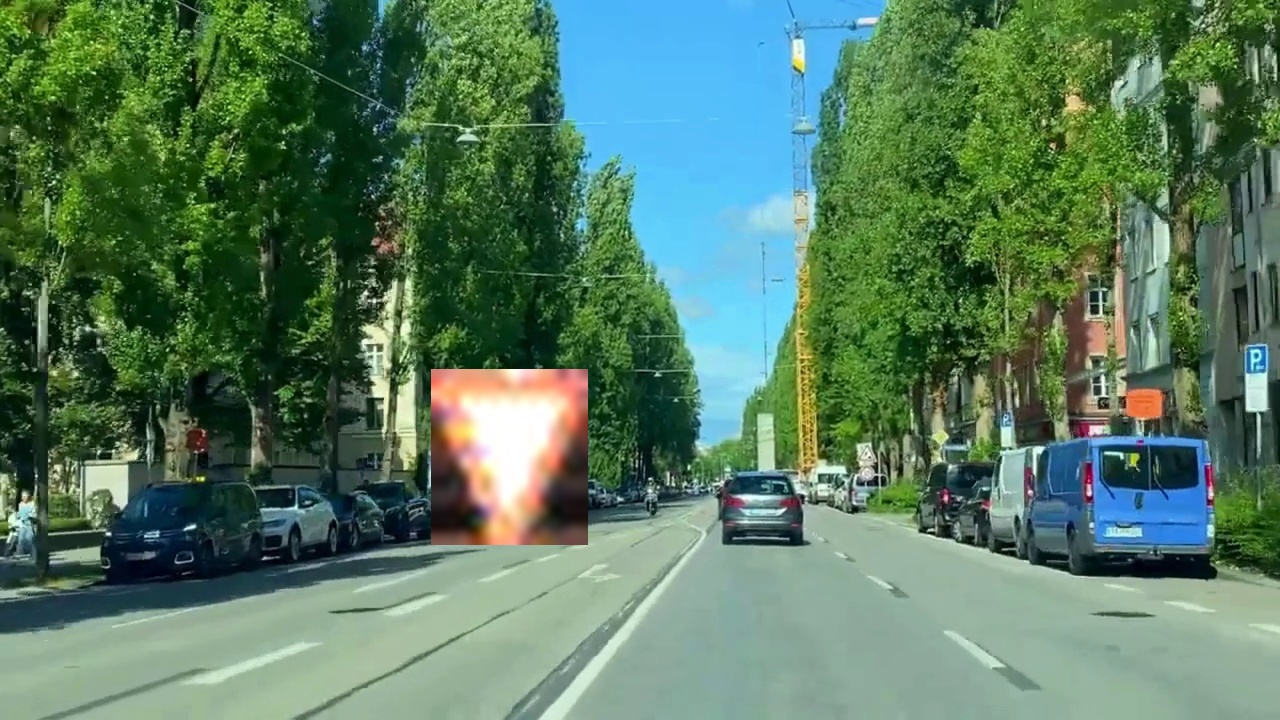Yield: (431, 369, 588, 545)
